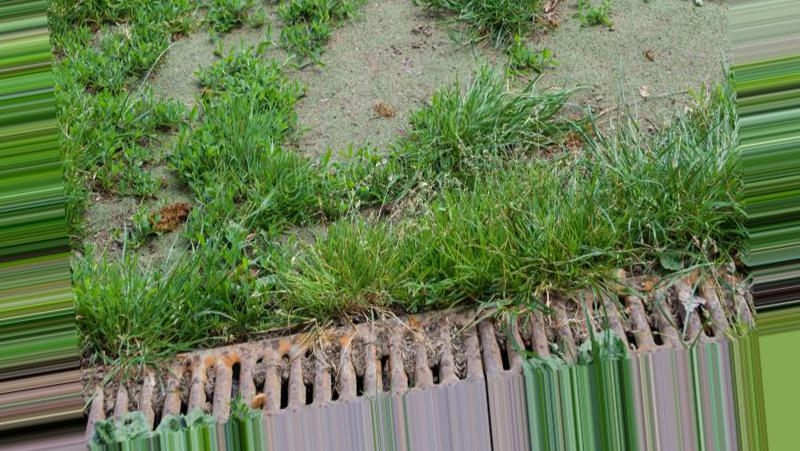patch: (576, 28, 692, 88), (358, 26, 433, 89), (342, 36, 370, 136)
